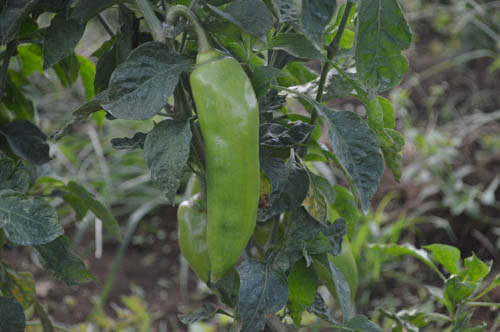ChiliPepper: (203, 58, 263, 285), (175, 197, 212, 274)
